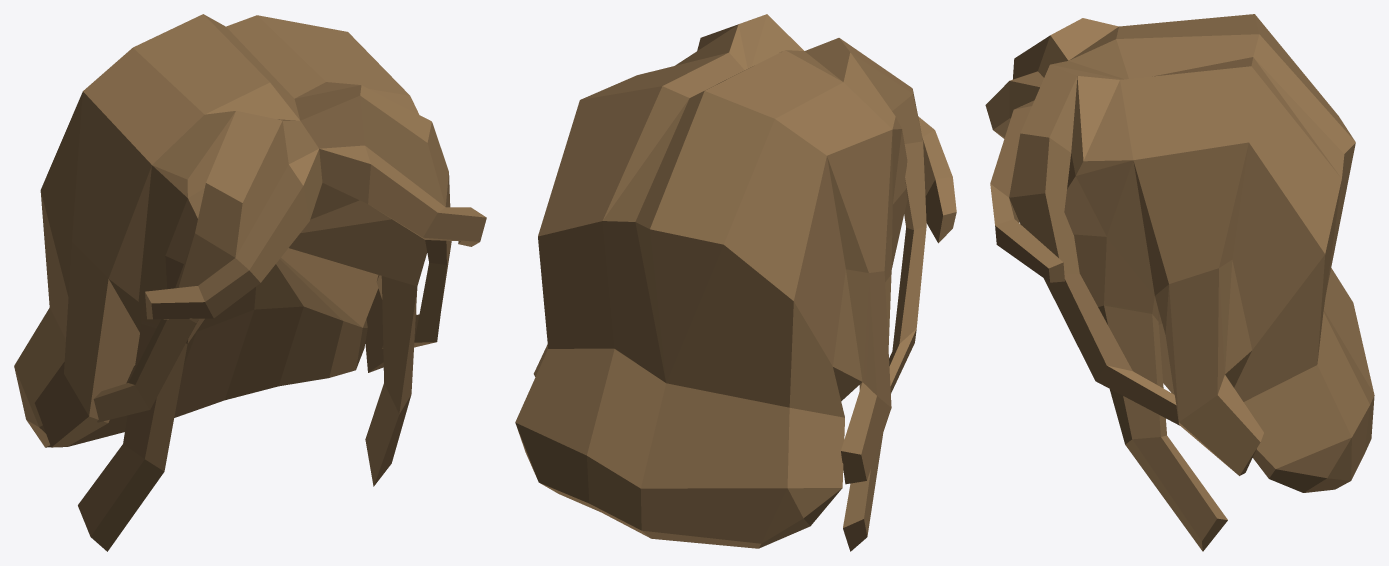
Rendered from shops-long-01.glb.
3 renders of one model, left to right at view 1: azimuth 30°, elevation 25°; view 2: azimuth 150°, elevation 25°; view 3: azimuth 270°, elevation 25°, orthographic. The views are drawn at different scales.
Visible parts, largest first — view 1: shops-long-01; view 2: shops-long-01; view 3: shops-long-01.
Boxes of the visible parts, box(x1,y1,x2,y2) form: shops-long-01: box(14, 14, 486, 551); shops-long-01: box(515, 14, 956, 551); shops-long-01: box(985, 14, 1374, 551).
Size of the model in its own units: 0.3014 by 0.3984 by 0.3096.
